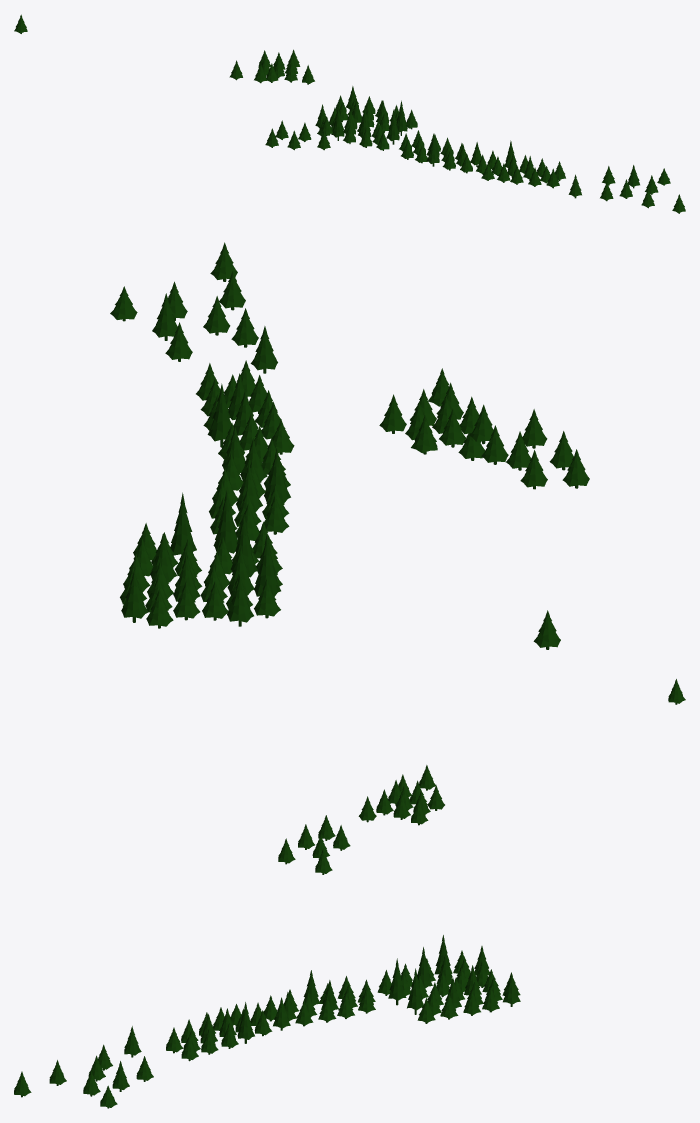
Rendered from Pine_Tree_1_Summer.glb.
The picture shows the model from 3 angles, top to bottom: view 1: azimuth 30°, elevation 25°; view 2: azimuth 150°, elevation 25°; view 3: azimuth 270°, elevation 25°; orthographic projection. The views are drawn at different scales.
Visible parts, largest first — view 1: Pine_Tree_1_Summer.088; view 2: Pine_Tree_1_Summer.088; view 3: Pine_Tree_1_Summer.088.
Part boxes in pixels (x1,y1,x2,y2): Pine_Tree_1_Summer.088: (14,14,685,213); Pine_Tree_1_Summer.088: (110,242,589,649); Pine_Tree_1_Summer.088: (14,679,685,1108).
Size of the model in its own units: 143 by 36.63 by 144.
